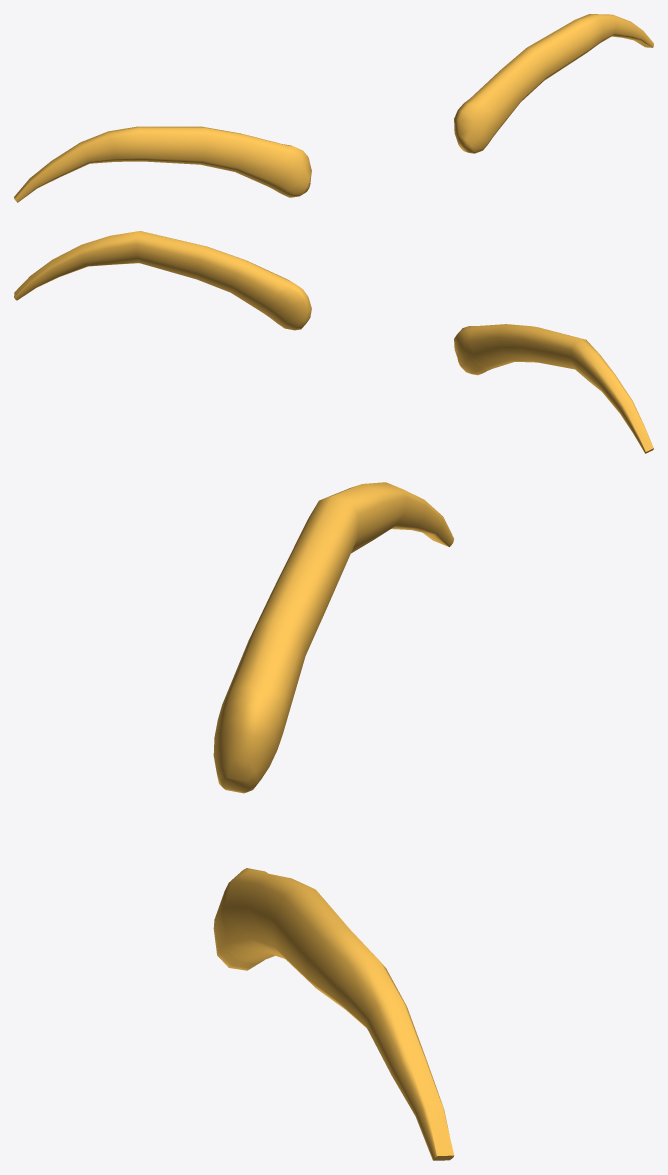
The model's file is Eyebrows_04_05.fbx.
3 views of the same model, one above another, from view 1: azimuth 30°, elevation 25°; view 2: azimuth 150°, elevation 25°; view 3: azimuth 270°, elevation 25° (orthographic). The views are drawn at different scales.
Parts seen in each view (by area): view 1: Eyebrows_04_05; view 2: Eyebrows_04_05; view 3: Eyebrows_04_05.
Boxes of the visible parts, x1,y1,x2,y2 form: Eyebrows_04_05: (14, 14, 653, 202); Eyebrows_04_05: (14, 231, 653, 453); Eyebrows_04_05: (213, 482, 454, 1160).
Bounding box in the file's own units: 19.76 × 2.45 × 3.22.
